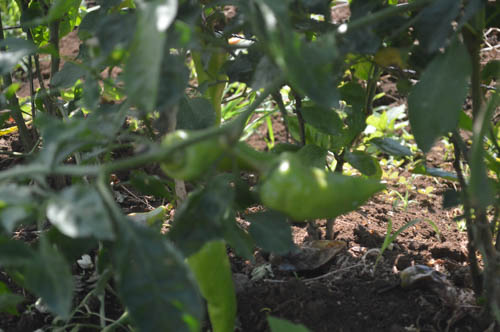ChiliPepper: (260, 158, 390, 222), (160, 133, 245, 182), (191, 243, 240, 328)
